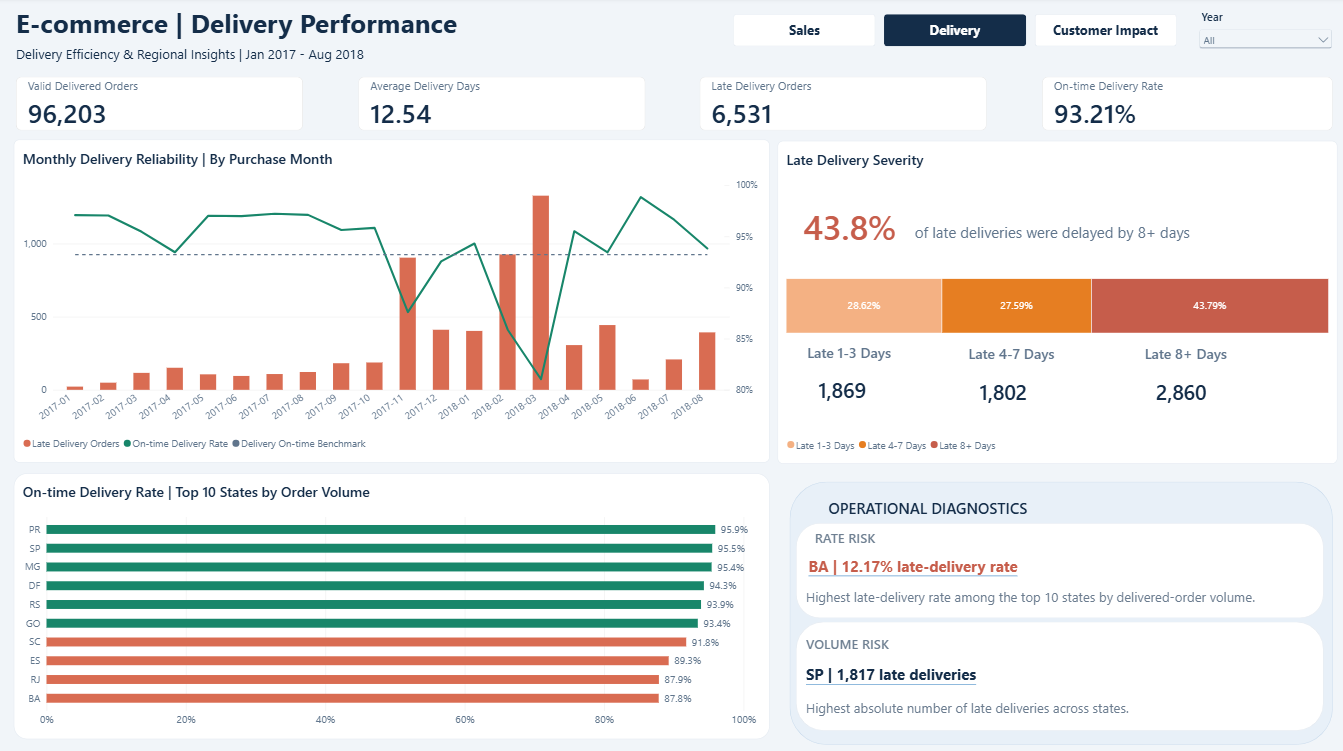

The dashboard page shown, as its layout file describes it:
{"tool":"powerbi","page":{"name":"Delivery ","canvas":[1920,1080],"ordinal":1},"visuals":[{"type":"textbox","box":[10.9,0,723.6,83.6],"z":0},{"type":"textbox","box":[10.9,56.4,576.4,54.5],"z":1000},{"type":"cardVisual","fields":{"Data":["Orders.Valid Delivered Orders"]},"box":[10.9,101.8,434.5,101.8],"z":2000},{"type":"cardVisual","fields":{"Data":["Orders.Average Delivery Days"]},"box":[499.4,101.8,434.5,101.8],"z":3000},{"type":"cardVisual","fields":{"Data":["Orders.Late Delivery Orders"]},"box":[987.9,101.8,434.5,101.8],"z":4000},{"type":"cardVisual","fields":{"Data":["Orders.On-time Delivery Rate"]},"box":[1476.4,101.8,440,101.8],"z":5000},{"type":"clusteredBarChart","title":"On-time Delivery Rate | Top 10 States by Order Volume","fields":{"Category":["Customers.customer_state"],"Y":["Orders.On-time Delivery Rate"]},"box":[19.6,680.4,1080.4,380.4],"z":6000},{"type":"hundredPercentStackedBarChart","title":"Late Delivery Severity","fields":{"Category":["Orders.Late Delivery Chart Group"],"Series":["Orders.Delivery Delay Bucket"],"Y":["Orders.Late Delivery Orders"]},"box":[1110.3,204.5,800,461.8],"z":7000},{"type":"slicer","fields":{"Values":["DateTable.Year"]},"box":[1696.4,5.5,223.6,87.3],"z":8000},{"type":"cardVisual","fields":{"Data":["Orders.Late 8+ Days %"]},"box":[1120,267.3,245.5,118.2],"z":9000},{"type":"textbox","box":[1294.5,309.1,570.9,76.4],"z":10000},{"type":"lineClusteredColumnComboChart","title":"Monthly Delivery Reliability | By Purchase Month","fields":{"Category":["DateTable.YearMonth"],"Y":["Orders.Late Delivery Orders"],"Y2":["Orders.On-time Delivery Rate","Orders.Delivery On-time Benchmark"]},"box":[20,203.6,1080,461.8],"z":11000},{"type":"pageNavigator","box":[1036.4,12.7,659.3,70.4],"z":12000},{"type":"shape","box":[1116.4,680,800,400],"z":13000},{"type":"shape","box":[1125.7,738.5,778.1,160.3],"z":14000},{"type":"shape","box":[1125.7,880.8,778.1,180.1],"z":15000},{"type":"textbox","box":[1142,785,482.7,68.4],"z":16000},{"type":"textbox","box":[1140.1,940.2,556.5,61.2],"z":17000},{"type":"textbox","box":[1170.9,703.6,345.5,72.7],"z":18000},{"type":"textbox","box":[1151,748,183.6,58.2],"z":19000},{"type":"textbox","box":[1139.3,832.1,692.9,67.9],"z":20000},{"type":"textbox","box":[1140,900,183.6,58.2],"z":21000},{"type":"textbox","box":[1140,990.9,574.5,52.7],"z":22000},{"type":"cardVisual","title":"Late 1-3 Days","fields":{"Data":["Orders.Late Delivery Orders"]},"box":[1141.6,482.1,202.4,114.8],"z":23000},{"type":"cardVisual","title":"Late 4-7 Days","fields":{"Data":["Orders.Late Delivery Orders"]},"box":[1371.1,484.2,227.5,114.8],"z":24000},{"type":"cardVisual","title":"Late 8+ Days","fields":{"Data":["Orders.Late Delivery Orders"]},"box":[1623.7,484.2,242.1,114.8],"z":25000}]}

Visuals, with their boxes in screenshot pixels (x1, y1, x2, y2), scaled from the page's 1920x1080 canvas onto the 1343x751 screenshot:
textbox: [left=8, top=0, right=514, bottom=58]
textbox: [left=8, top=39, right=411, bottom=77]
cardVisual - Orders.Valid Delivered Orders: [left=8, top=71, right=312, bottom=142]
cardVisual - Orders.Average Delivery Days: [left=349, top=71, right=653, bottom=142]
cardVisual - Orders.Late Delivery Orders: [left=691, top=71, right=995, bottom=142]
cardVisual - Orders.On-time Delivery Rate: [left=1033, top=71, right=1340, bottom=142]
"On-time Delivery Rate | Top 10 States by Order Volume" clusteredBarChart: [left=14, top=473, right=769, bottom=738]
"Late Delivery Severity" hundredPercentStackedBarChart: [left=777, top=142, right=1336, bottom=463]
slicer - DateTable.Year: [left=1187, top=4, right=1342, bottom=65]
cardVisual - Orders.Late 8+ Days %: [left=783, top=186, right=955, bottom=268]
textbox: [left=905, top=215, right=1305, bottom=268]
"Monthly Delivery Reliability | By Purchase Month" lineClusteredColumnComboChart: [left=14, top=142, right=769, bottom=463]
pageNavigator: [left=725, top=9, right=1186, bottom=58]
shape: [left=781, top=473, right=1340, bottom=750]
shape: [left=787, top=514, right=1332, bottom=625]
shape: [left=787, top=612, right=1332, bottom=738]
textbox: [left=799, top=546, right=1136, bottom=593]
textbox: [left=797, top=654, right=1187, bottom=696]
textbox: [left=819, top=489, right=1061, bottom=540]
textbox: [left=805, top=520, right=934, bottom=561]
textbox: [left=797, top=579, right=1282, bottom=626]
textbox: [left=797, top=626, right=926, bottom=666]
textbox: [left=797, top=689, right=1199, bottom=726]
"Late 1-3 Days" cardVisual: [left=799, top=335, right=940, bottom=415]
"Late 4-7 Days" cardVisual: [left=959, top=337, right=1118, bottom=417]
"Late 8+ Days" cardVisual: [left=1136, top=337, right=1305, bottom=417]
